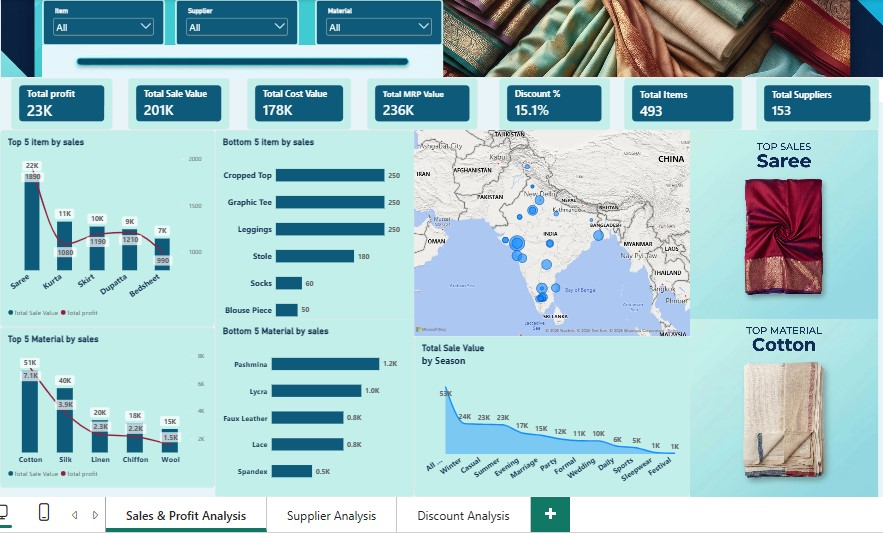

Layout of this report page (visuals, bound fields, positions):
{"tool":"powerbi","page":{"name":"Sales & Profit Analysis","canvas":[1920,1080],"ordinal":0},"visuals":[{"type":"image","box":[0,0,1919.3,171.3],"z":0},{"type":"cardVisual","fields":{"Data":["KPIs.Total Sale Value"]},"box":[277.6,171.3,220,112],"z":1000},{"type":"cardVisual","fields":{"Data":["KPIs.Total Cost Value"]},"box":[535.7,171.3,226,112],"z":2000},{"type":"cardVisual","fields":{"Data":["KPIs.Total MRP Value"]},"box":[795.9,171.3,240,112],"z":3000},{"type":"cardVisual","fields":{"Data":["KPIs.Discount %"]},"box":[1082.2,171.3,240.7,112.8],"z":4000},{"type":"cardVisual","fields":{"Data":["KPIs.Total Items"]},"box":[1353.3,171.3,255.9,112.8],"z":5000},{"type":"cardVisual","fields":{"Data":["KPIs.Total Suppliers"]},"box":[1639.5,171.3,266.7,112.8],"z":6000},{"type":"lineStackedColumnComboChart","title":"Top 5  item by sales","fields":{"Category":["Textile_data2 txt.Item"],"Y":["KPIs.Total Sale Value"],"Y2":["KPIs.Total profit"]},"box":[0,284.1,466.3,427.2],"z":7000},{"type":"lineStackedColumnComboChart","title":"Top 5  Material by sales","fields":{"Category":["Textile_data2 txt.Material"],"Y":["KPIs.Total Sale Value"],"Y2":["KPIs.Total profit"]},"box":[0,711.3,466.3,349.2],"z":8000},{"type":"cardVisual","fields":{"Data":["KPIs.Total profit"]},"box":[23.9,171.3,220,112],"z":9000},{"type":"map","fields":{"Category":["Textile_data2 txt.Location"],"Size":["KPIs.Total Sale Value"]},"box":[897.8,284.1,598.6,446.7],"z":10000},{"type":"areaChart","fields":{"Category":["Textile_data2 txt.Season"],"Y":["KPIs.Total Sale Value"]},"box":[897.8,730.8,598.6,349.2],"z":11000},{"type":"image","box":[1496.4,284.1,407.7,409.9],"z":12000},{"type":"image","box":[1496.4,694,407.7,386],"z":13000},{"type":"clusteredBarChart","title":"Bottom 5 item by sales","fields":{"Category":["Textile_data2 txt.Item"],"Y":["KPIs.Total Sale Value"]},"box":[466.3,284.1,431.6,446.7],"z":14000},{"type":"clusteredBarChart","title":"Bottom 5  Material by sales","fields":{"Category":["Textile_data2 txt.Material"],"Y":["KPIs.Total Sale Value"]},"box":[466.3,694,431.6,386],"z":15000},{"type":"slicer","fields":{"Values":["Textile_data2 txt.Item"]},"box":[91.1,0,266.7,101.9],"z":16000},{"type":"slicer","fields":{"Values":["Textile_data2 txt.Supplier"]},"box":[379.5,0,268.9,101.9],"z":17000},{"type":"slicer","fields":{"Values":["Textile_data2 txt.Material"]},"box":[683.1,0,277.6,101.9],"z":18000},{"type":"image","box":[91.1,99.8,869.6,71.6],"z":19000}]}

Visuals, with their boxes on the page's 1920x1080 design canvas (x1, y1, x2, y2). These are canvas units, not pixel positions in the 883x533 screenshot, which may show the page scaled, cropped or inside an application window:
image: {"x1": 0, "y1": 0, "x2": 1919, "y2": 171}
cardVisual - KPIs.Total Sale Value: {"x1": 278, "y1": 171, "x2": 498, "y2": 283}
cardVisual - KPIs.Total Cost Value: {"x1": 536, "y1": 171, "x2": 762, "y2": 283}
cardVisual - KPIs.Total MRP Value: {"x1": 796, "y1": 171, "x2": 1036, "y2": 283}
cardVisual - KPIs.Discount %: {"x1": 1082, "y1": 171, "x2": 1323, "y2": 284}
cardVisual - KPIs.Total Items: {"x1": 1353, "y1": 171, "x2": 1609, "y2": 284}
cardVisual - KPIs.Total Suppliers: {"x1": 1640, "y1": 171, "x2": 1906, "y2": 284}
"Top 5  item by sales" lineStackedColumnComboChart: {"x1": 0, "y1": 284, "x2": 466, "y2": 711}
"Top 5  Material by sales" lineStackedColumnComboChart: {"x1": 0, "y1": 711, "x2": 466, "y2": 1060}
cardVisual - KPIs.Total profit: {"x1": 24, "y1": 171, "x2": 244, "y2": 283}
map - Textile_data2 txt.Location x KPIs.Total Sale Value: {"x1": 898, "y1": 284, "x2": 1496, "y2": 731}
areaChart - Textile_data2 txt.Season x KPIs.Total Sale Value: {"x1": 898, "y1": 731, "x2": 1496, "y2": 1080}
image: {"x1": 1496, "y1": 284, "x2": 1904, "y2": 694}
image: {"x1": 1496, "y1": 694, "x2": 1904, "y2": 1080}
"Bottom 5 item by sales" clusteredBarChart: {"x1": 466, "y1": 284, "x2": 898, "y2": 731}
"Bottom 5  Material by sales" clusteredBarChart: {"x1": 466, "y1": 694, "x2": 898, "y2": 1080}
slicer - Textile_data2 txt.Item: {"x1": 91, "y1": 0, "x2": 358, "y2": 102}
slicer - Textile_data2 txt.Supplier: {"x1": 380, "y1": 0, "x2": 648, "y2": 102}
slicer - Textile_data2 txt.Material: {"x1": 683, "y1": 0, "x2": 961, "y2": 102}
image: {"x1": 91, "y1": 100, "x2": 961, "y2": 171}
